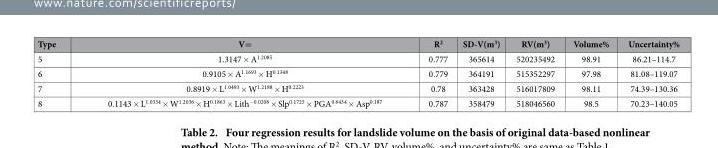table: (36, 37, 678, 109)
table column: (81, 37, 404, 109), (617, 37, 678, 109), (507, 37, 563, 109), (563, 37, 617, 109), (454, 37, 507, 109), (404, 37, 454, 109), (36, 37, 81, 109)
table column header: (36, 37, 678, 50)
table row: (36, 50, 678, 65), (36, 65, 678, 80), (36, 80, 678, 95), (36, 95, 678, 109), (36, 37, 678, 50)
